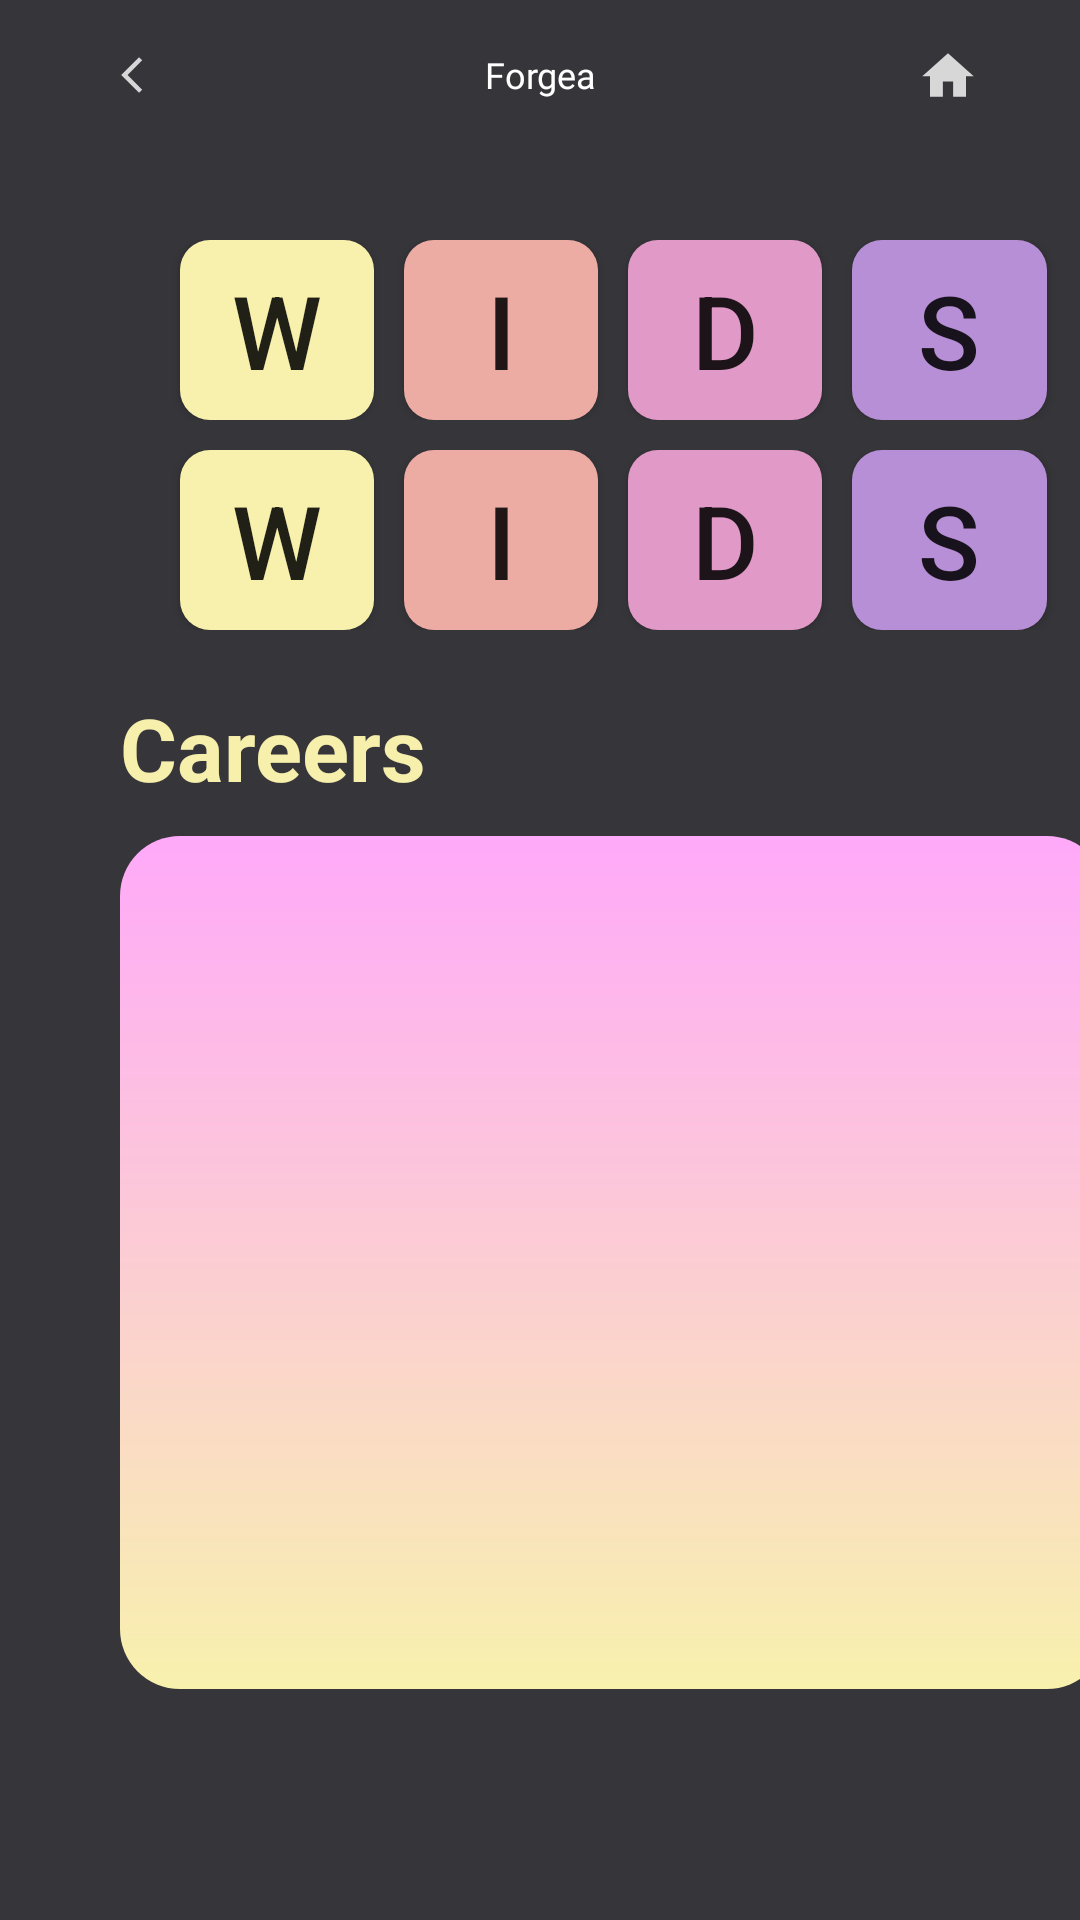

Icons on this 1080×1920 Android screen, each with its box as (x1, y1, x2, y2):
back arrow: (121, 57, 142, 93)
home: (923, 53, 973, 97)
